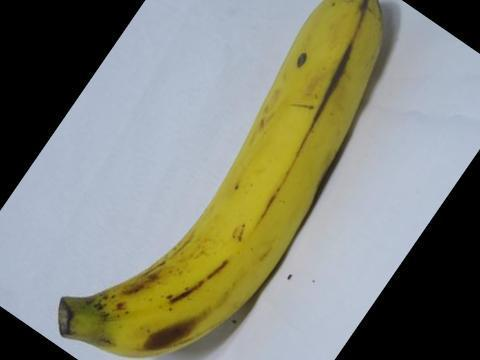ripe: (44, 0, 394, 359)
